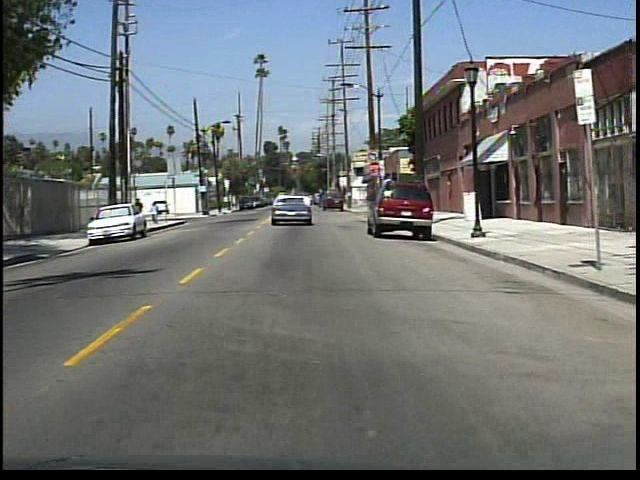person: (132, 196, 148, 228), (149, 199, 162, 226)
